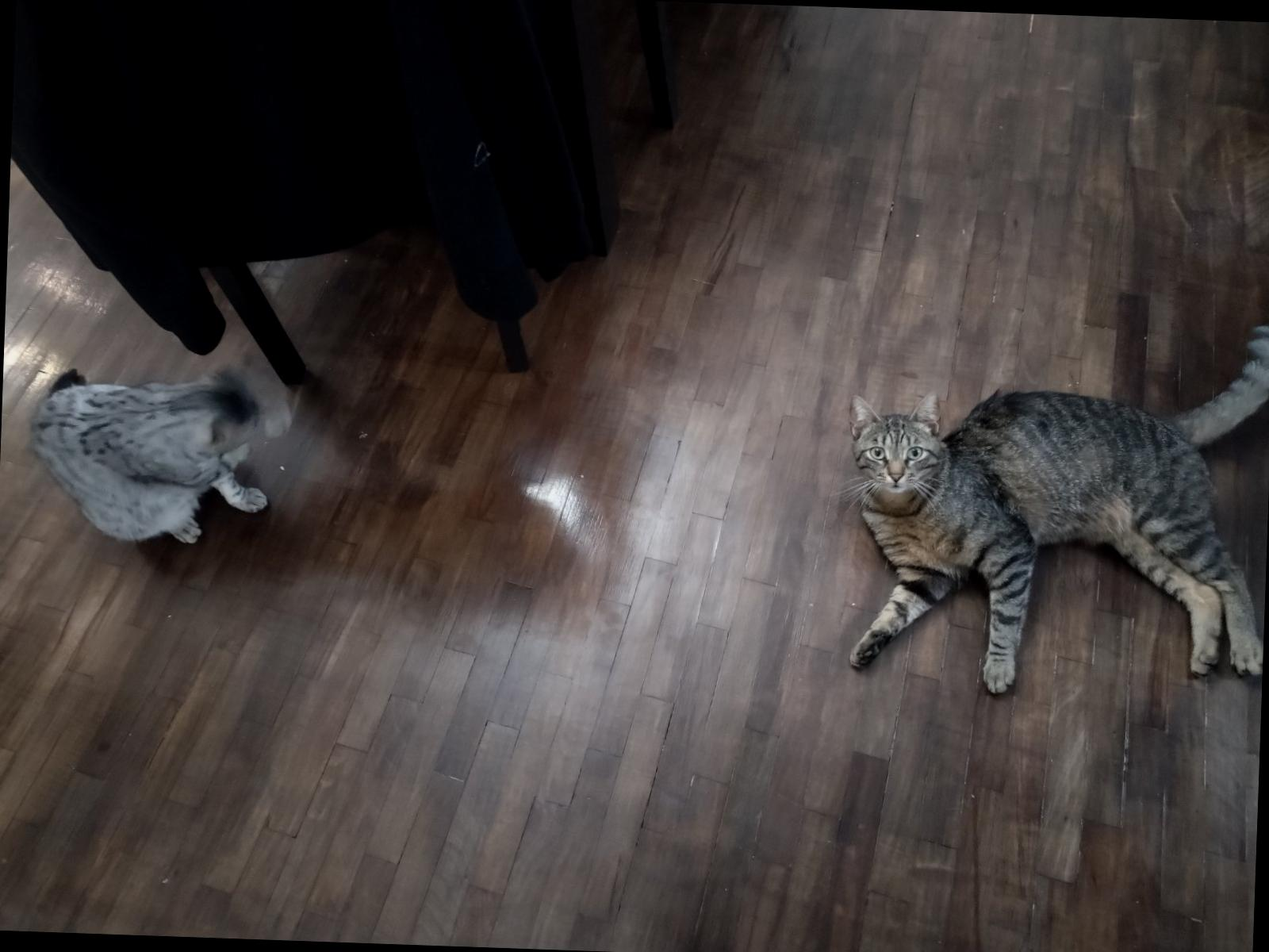macka: (837, 303, 1269, 704), (26, 354, 278, 549)
